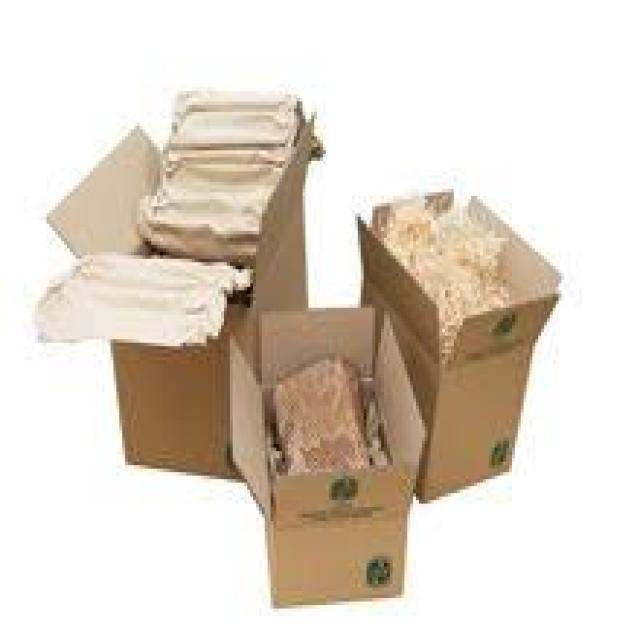Cardboard: (34, 91, 310, 486), (358, 187, 562, 495), (225, 307, 421, 605)
